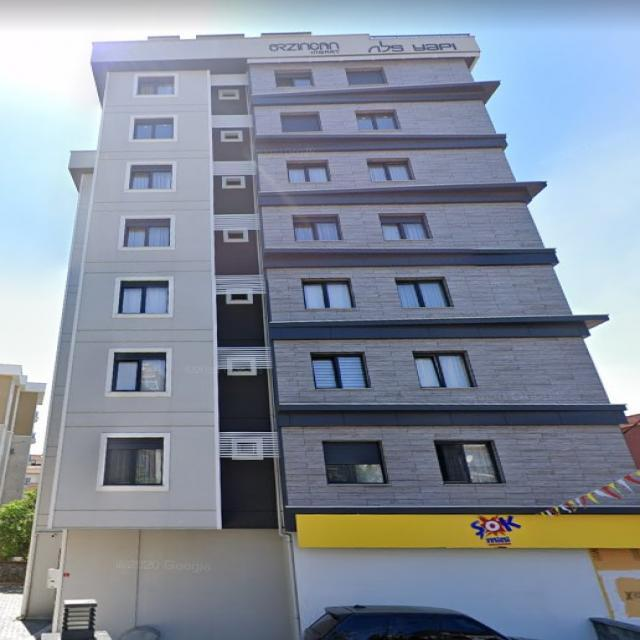Building: (19, 31, 640, 640)
